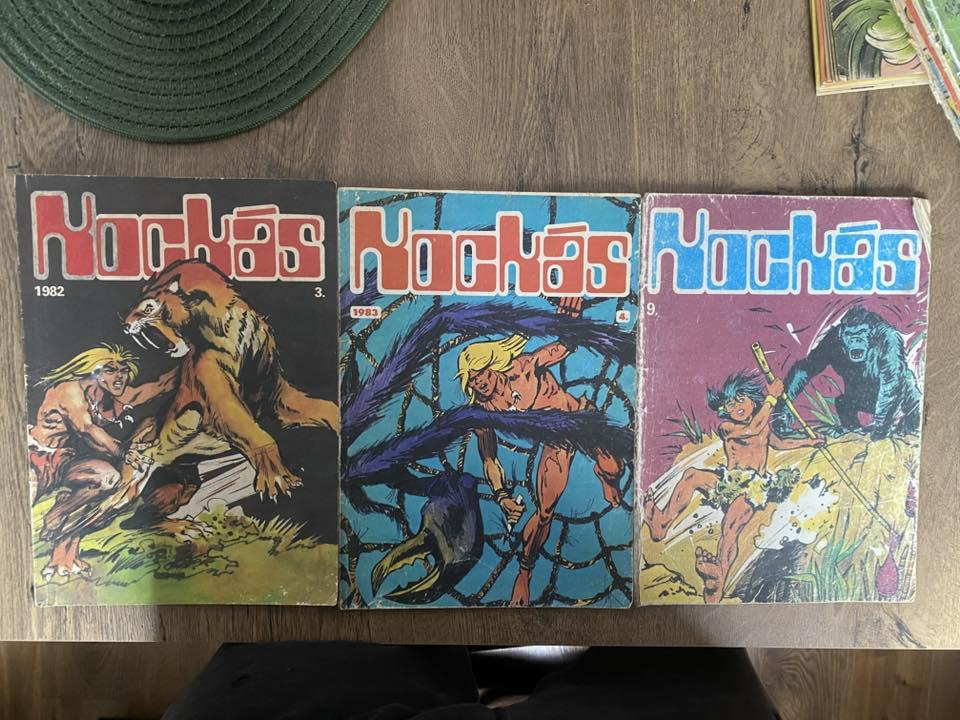comic: (17, 176, 338, 604), (339, 187, 640, 607), (637, 194, 930, 606)
